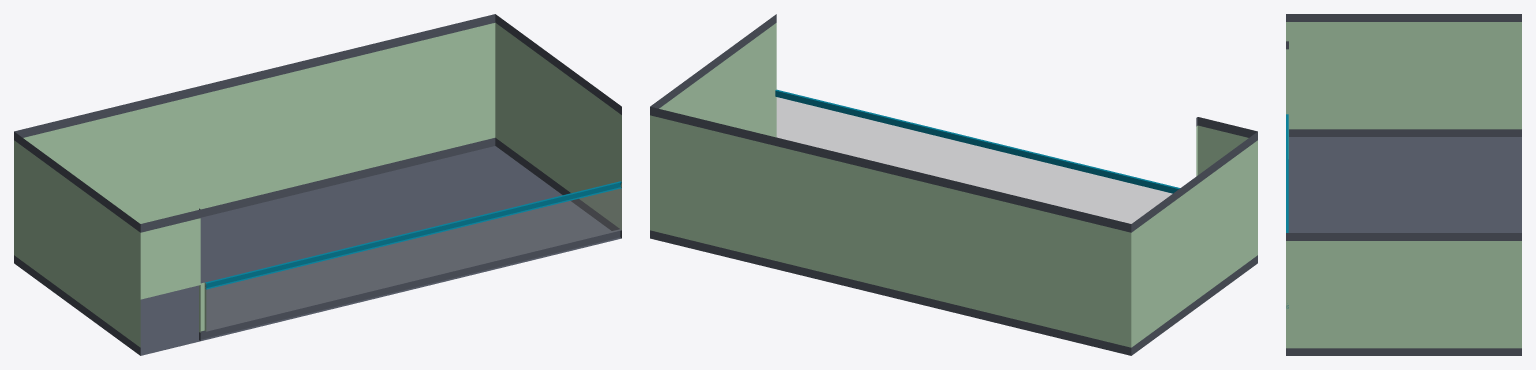
File: InteractionRoom.fbx
3 views of the same model, side by side, from view 1: azimuth 30°, elevation 25°; view 2: azimuth 150°, elevation 25°; view 3: azimuth 270°, elevation 25° (orthographic). The views are drawn at different scales.
Parts seen in each view (by area): view 1: InteractionRoom; view 2: InteractionRoom; view 3: InteractionRoom.
Part boxes in pixels (x1,y1,x2,y2): InteractionRoom: (14,14,621,355); InteractionRoom: (650,14,1257,355); InteractionRoom: (1286,14,1521,355).
Bounding box in the file's own units: 87.85 × 23 × 40.
